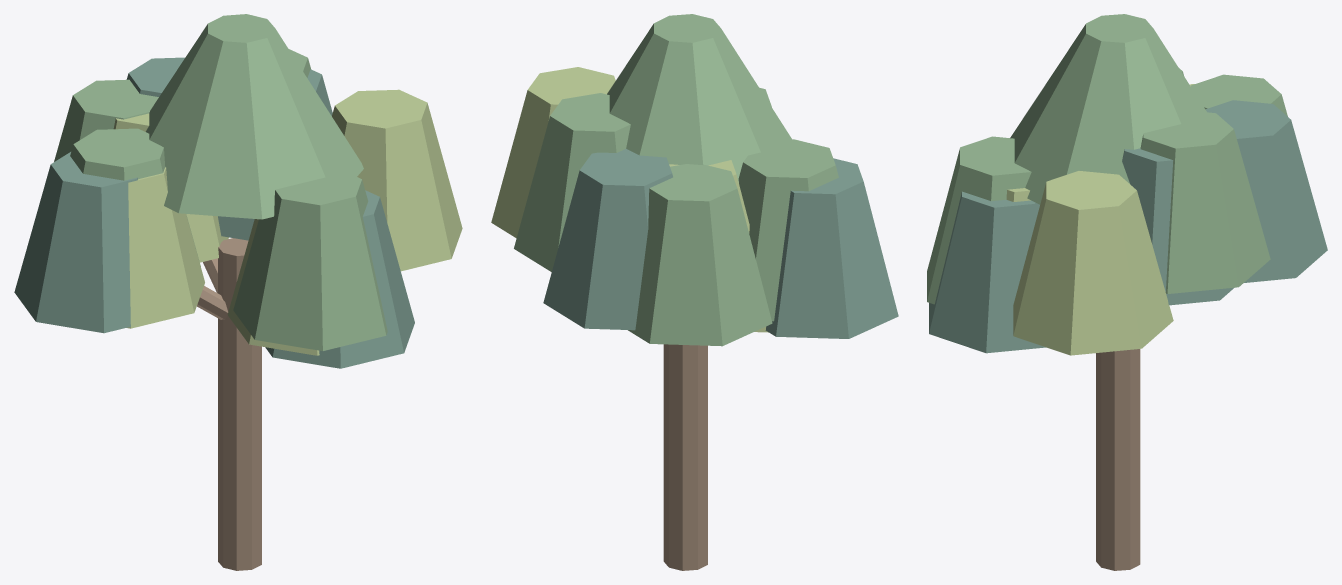
File: neem_tree.glb
3 views of the same model, side by side, from view 1: azimuth 30°, elevation 25°; view 2: azimuth 150°, elevation 25°; view 3: azimuth 270°, elevation 25° (orthographic).
Parts seen in each view (by area): view 1: GEO-canopy crown, GEO-leaf cluster.009, GEO-leaf cluster.002, GEO-leaf cluster.003, GEO-trunk, GEO-leaf cluster.001, GEO-leaf cluster.011, GEO-leaf cluster, GEO-leaf cluster.007, GEO-leaf cluster.008, GEO-leaf cluster.006, GEO-leaf cluster.010 (+2 smaller); view 2: GEO-leaf cluster.007, GEO-canopy crown, GEO-leaf cluster.002, GEO-leaf cluster.006, GEO-trunk, GEO-leaf cluster.005, GEO-leaf cluster, GEO-leaf cluster.003; view 3: GEO-leaf cluster.003, GEO-canopy crown, GEO-leaf cluster.005, GEO-leaf cluster.011, GEO-leaf cluster.006, GEO-trunk, GEO-leaf cluster.009, GEO-leaf cluster.004, GEO-leaf cluster.007.
Part boxes in pixels (x1,y1,x2,y2): GEO-canopy crown: (146,14,363,219); GEO-leaf cluster.009: (233,167,387,350); GEO-leaf cluster.002: (14,152,137,333); GEO-leaf cluster.003: (332,89,462,271); GEO-trunk: (218,238,261,570); GEO-leaf cluster.001: (127,167,204,328); GEO-leaf cluster.011: (265,190,414,368); GEO-leaf cluster: (70,128,200,266); GEO-leaf cluster.007: (54,79,158,161); GEO-leaf cluster.008: (113,113,228,262); GEO-leaf cluster.006: (126,57,184,96); GEO-leaf cluster.010: (227,219,319,355); GEO-leaf cluster.007: (628,164,772,346); GEO-canopy crown: (607,14,791,182); GEO-leaf cluster.002: (765,158,898,338); GEO-leaf cluster.006: (543,149,672,330); GEO-trunk: (663,344,707,570); GEO-leaf cluster.005: (514,93,630,271); GEO-leaf cluster: (738,139,838,321); GEO-leaf cluster.003: (491,67,615,238); GEO-leaf cluster.003: (1013,171,1173,355); GEO-canopy crown: (1010,14,1206,204); GEO-leaf cluster.005: (1140,111,1270,293); GEO-leaf cluster.011: (929,191,1046,353); GEO-leaf cluster.006: (1205,100,1327,282); GEO-trunk: (1096,349,1140,570); GEO-leaf cluster.009: (927,136,1031,304); GEO-leaf cluster.004: (1122,148,1234,305); GEO-leaf cluster.007: (1191,74,1287,116).
Bounding box in the file's own units: 4.73 × 5.93 × 4.04.
